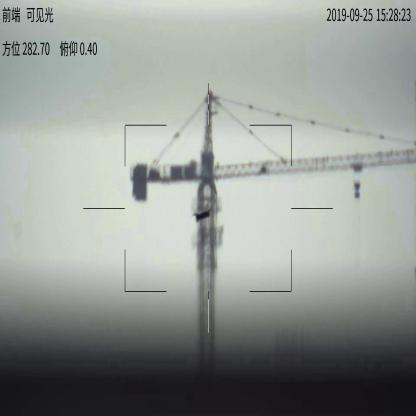uav: (193, 208, 211, 221)
